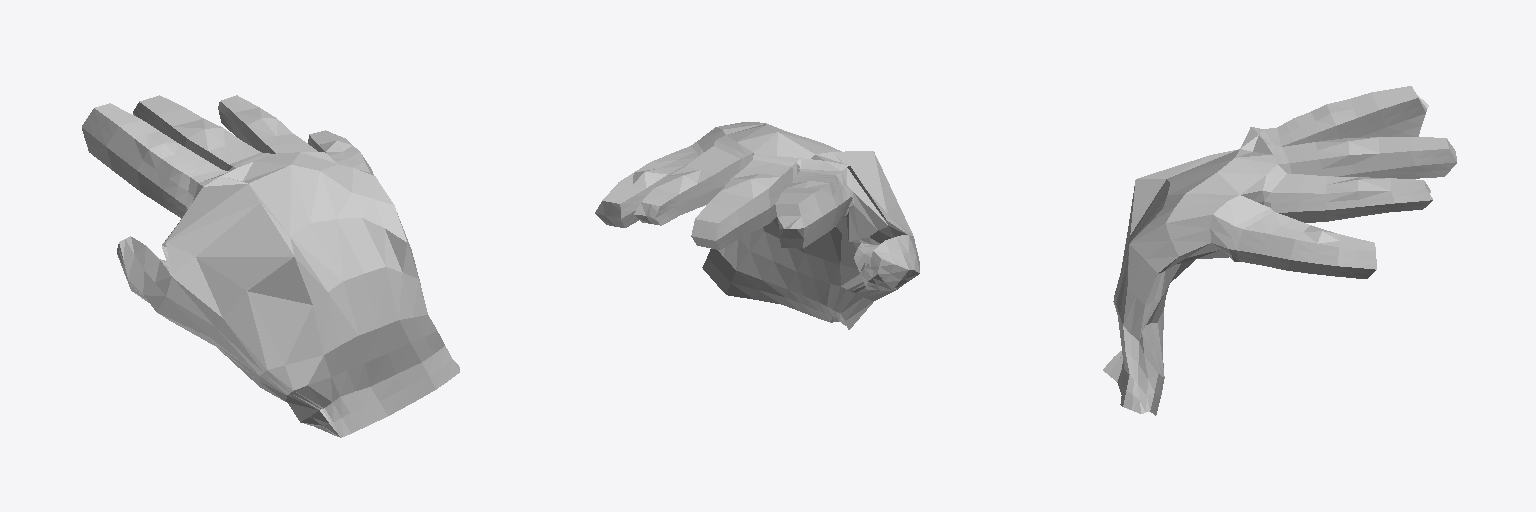
Rendered from flexion0037.obj.
3 views of the same model, side by side, from view 1: azimuth 30°, elevation 25°; view 2: azimuth 150°, elevation 25°; view 3: azimuth 270°, elevation 25° (orthographic).
Visible parts, largest first — view 1: Hand; view 2: Hand; view 3: Hand.
Boxes of the visible parts, x1,y1,x2,y2 form: Hand: [82, 95, 459, 437]; Hand: [595, 122, 919, 329]; Hand: [1103, 86, 1456, 415].
Bounding box in the file's own units: 3.27 × 2.86 × 3.74.